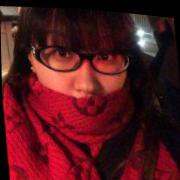WRONG: (34, 19, 137, 138)
